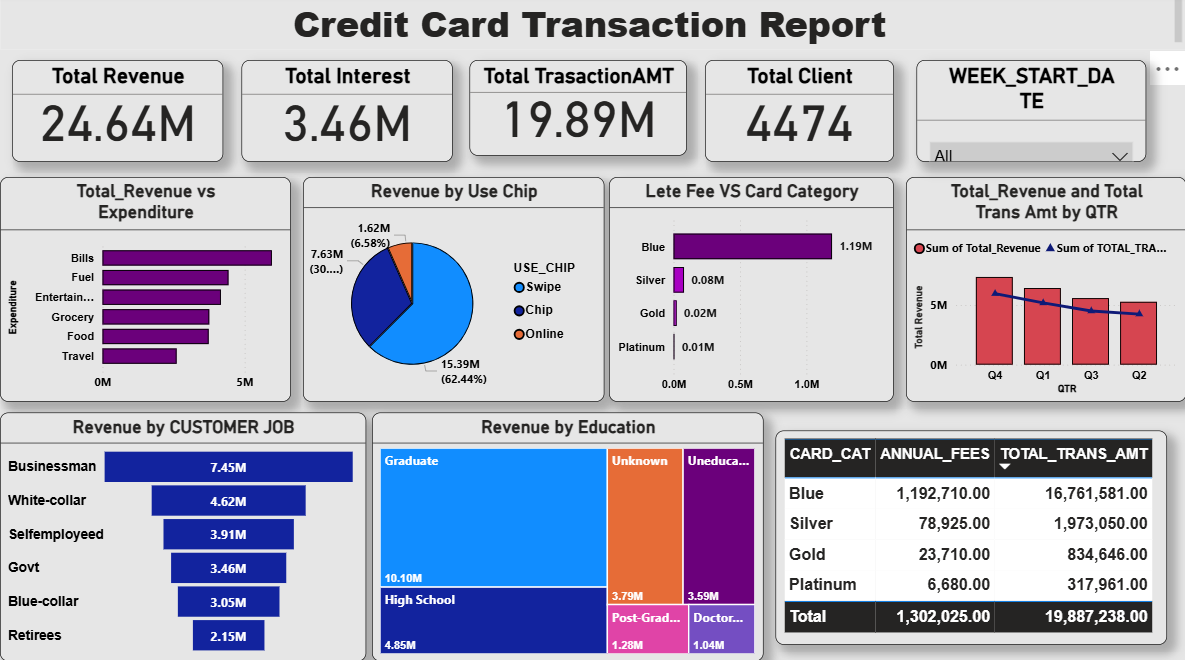

The page's visual inventory and layout, read from the dashboard file:
{"tool":"powerbi","page":{"name":"Page 1","canvas":[1280,720],"ordinal":0},"visuals":[{"type":"card","title":"Total Revenue","fields":{"Values":["Sum(cc_details.Total_Revenue)"]},"box":[13,71.2,228.3,110.1],"z":0},{"type":"textbox","box":[0,0,1280.8,59.9],"z":1000},{"type":"card","title":"Total Interest","fields":{"Values":["Sum(cc_details.INTEREST_EARNED)"]},"box":[260.7,71.2,228.3,110.1],"z":2000},{"type":"card","title":"Total TrasactionAMT","fields":{"Values":["Sum(cc_details.TOTAL_TRANS_AMT)"]},"box":[506.8,71.2,234.8,103.6],"z":3000},{"type":"card","title":"Total Client","fields":{"Values":["CountNonNull(cc_details.CLIENT_NUM)"]},"box":[761,71.2,204,110.1],"z":4000},{"type":"barChart","title":"Total_Revenue vs Expenditure","fields":{"Category":["cc_details.EXP_TYPE"],"Y":["Sum(cc_details.Total_Revenue)"]},"box":[0,197.5,314.1,242.9],"z":5000},{"type":"pieChart","title":"Revenue by Use Chip","fields":{"Y":["Sum(cc_details.Total_Revenue)"],"Category":["cc_details.USE_CHIP"]},"box":[327.1,197.5,325.5,242.9],"z":6000},{"type":"barChart","title":"Lete Fee VS Card Category","fields":{"Category":["cc_details.CARD_CATEGORY"],"Y":["Sum(cc_details.ANNUAL_FEES)"]},"box":[657.4,197.5,307.7,242.9],"z":7000},{"type":"lineStackedColumnComboChart","title":" Total_Revenue and Total Trans Amt by QTR","fields":{"Y":["Sum(cc_details.Total_Revenue)"],"Y2":["Sum(cc_details.TOTAL_TRANS_AMT)"],"Category":["cc_details.QTR"]},"box":[978,197.5,302.8,242.9],"z":8000},{"type":"funnel","title":"Revenue by CUSTOMER JOB","fields":{"Category":["Custmer.CUSTOMER_JOB"],"Y":["Sum(cc_details.Total_Revenue)"]},"box":[0,451.8,395.1,268.8],"z":9000},{"type":"treemap","title":"Revenue by Education","fields":{"Group":["Custmer.EDUCATION_LEVEL"],"Values":["Sum(cc_details.Total_Revenue)"]},"box":[401.6,451.8,422.6,268.8],"z":10000},{"type":"tableEx","fields":{"Values":["cc_details.CARD_CATEGORY","Sum(cc_details.ANNUAL_FEES)","Sum(cc_details.TOTAL_TRANS_AMT)"]},"box":[837.1,471.2,422.6,231.5],"z":11000},{"type":"slicer","title":"WEEK_START_DATE","fields":{"Values":["cc_details.WEEK_START_DATE"]},"box":[989.3,71.2,247.7,110.1],"z":12000}]}

Visuals, with their boxes in screenshot pixels (x1, y1, x2, y2), scaled from the page's 1280x720 canvas onto the 1185x660 screenshot:
"Total Revenue" card: (12, 65, 223, 166)
textbox: (0, 0, 1184, 55)
"Total Interest" card: (241, 65, 453, 166)
"Total TrasactionAMT" card: (469, 65, 687, 160)
"Total Client" card: (705, 65, 893, 166)
"Total_Revenue vs Expenditure" barChart: (0, 181, 291, 404)
"Revenue by Use Chip" pieChart: (303, 181, 604, 404)
"Lete Fee VS Card Category" barChart: (609, 181, 893, 404)
" Total_Revenue and Total Trans Amt by QTR" lineStackedColumnComboChart: (905, 181, 1184, 404)
"Revenue by CUSTOMER JOB" funnel: (0, 414, 366, 659)
"Revenue by Education" treemap: (372, 414, 763, 659)
tableEx - cc_details.CARD_CATEGORY x Sum(cc_details.ANNUAL_FEES): (775, 432, 1166, 644)
"WEEK_START_DATE" slicer: (916, 65, 1145, 166)
